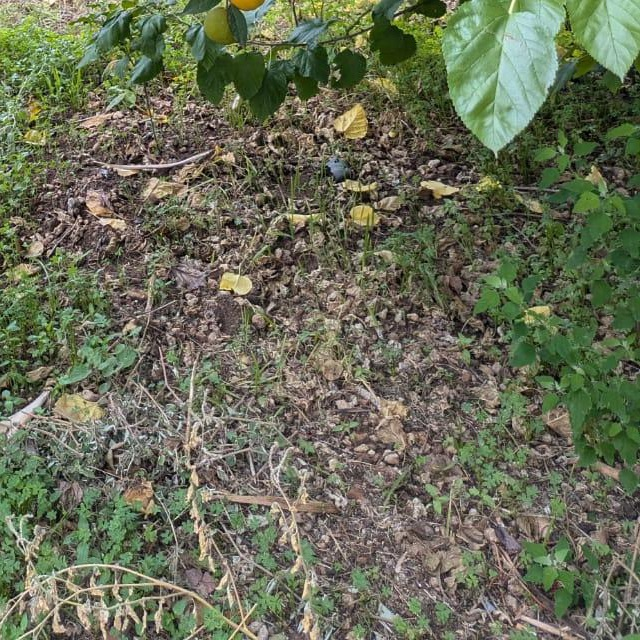orange: (202, 6, 234, 44), (226, 0, 268, 10)
